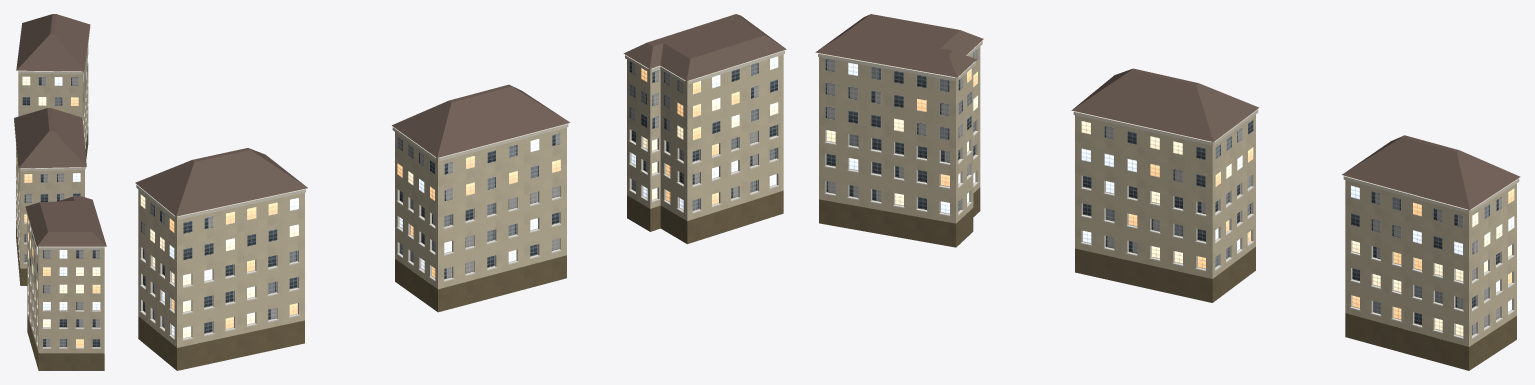
Rendered from z3a_see_a.glb.
3 renders of one model, left to right at view 1: azimuth 30°, elevation 25°; view 2: azimuth 150°, elevation 25°; view 3: azimuth 270°, elevation 25°, orthographic. The views are drawn at different scales.
Parts seen in each view (by area): view 1: z3a_see_a; view 2: z3a_see_a; view 3: z3a_see_a.
Part boxes in pixels (x1,y1,x2,y2): z3a_see_a: (14,14,106,370); z3a_see_a: (135,14,786,370); z3a_see_a: (815,14,1520,370).
Size of the model in its own units: 49.26 by 24.32 by 79.94.
3 materials, 3 textured.
